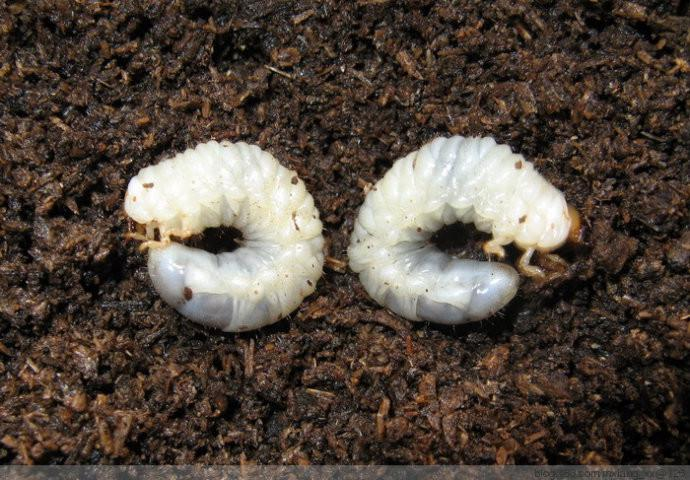grub: (347, 124, 597, 345)
